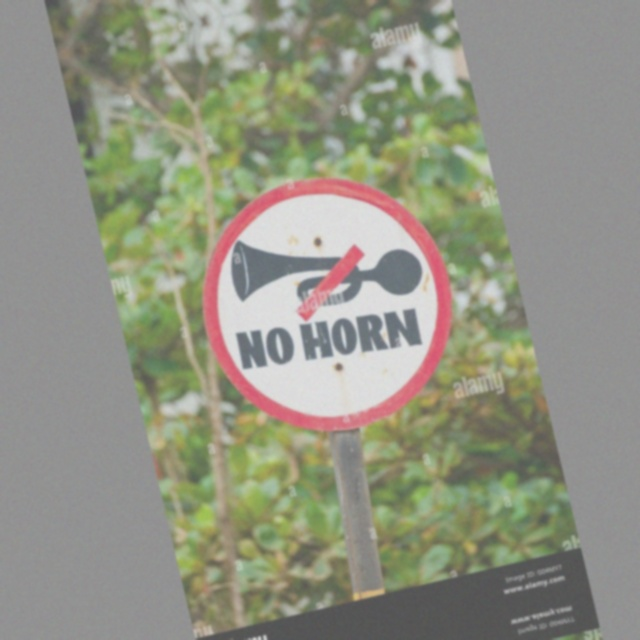Horn_Prohibited: (183, 148, 475, 458)
